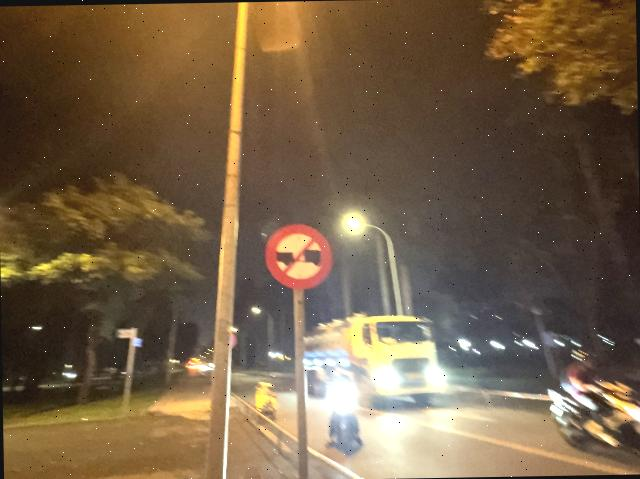cam-xe-somi-romooc: (264, 222, 332, 290)
